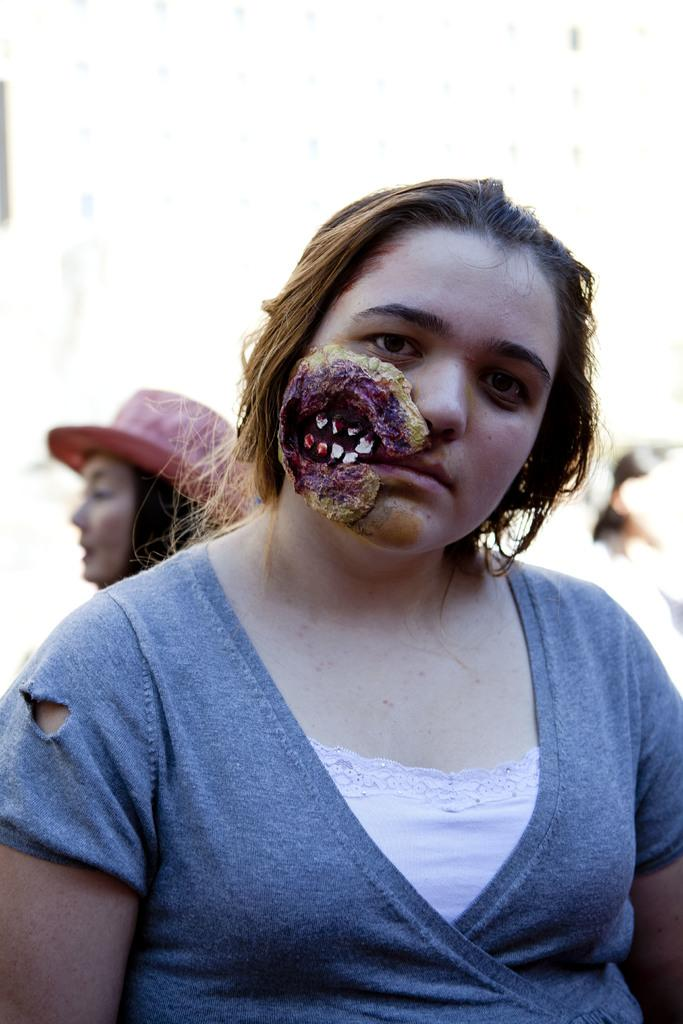Hat: (44, 386, 246, 522)
